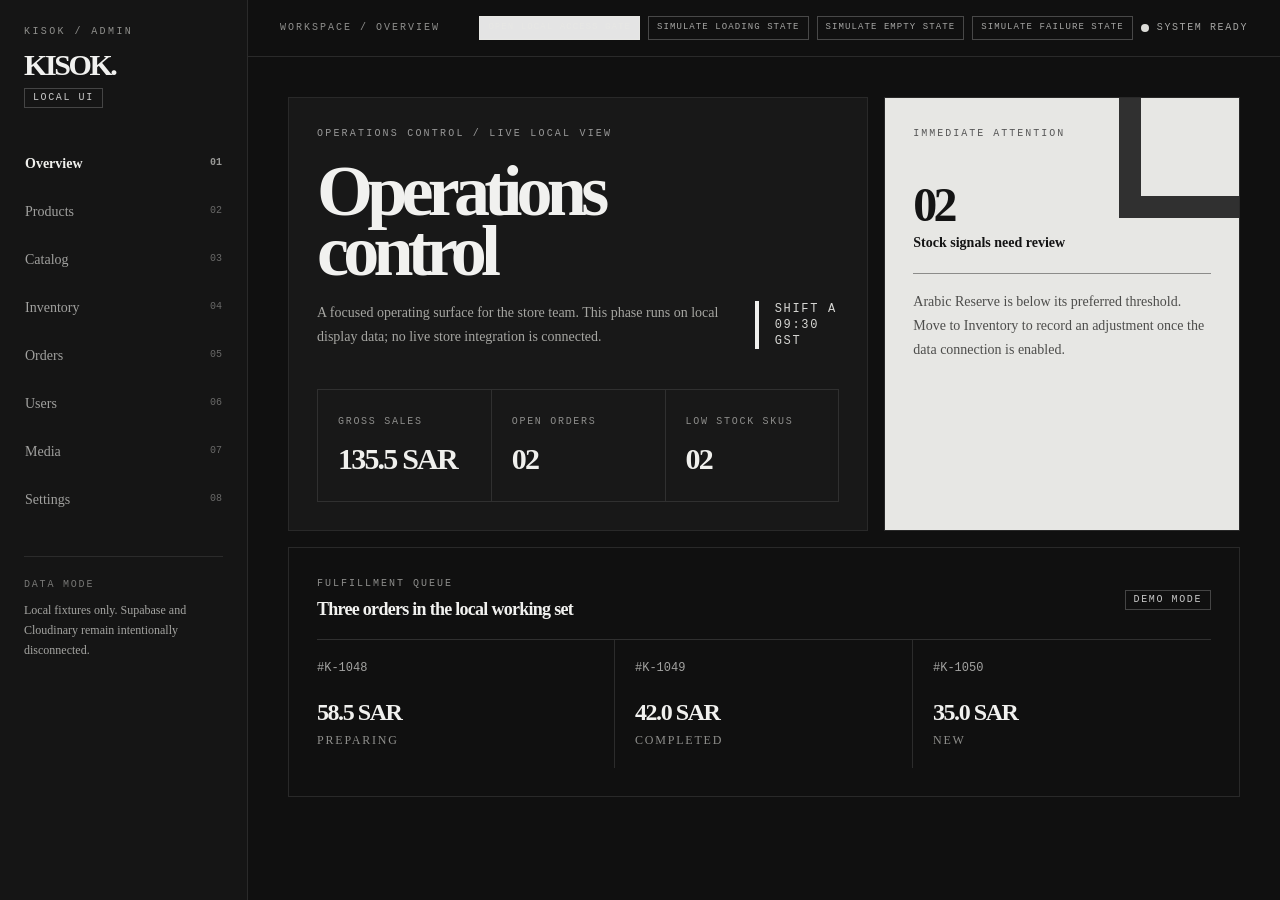
it: KisokAdminConsole › switches any feature into local loading, empty, and failure states
Click the button "Products 02" at (124, 212), box [24,188,223,236]
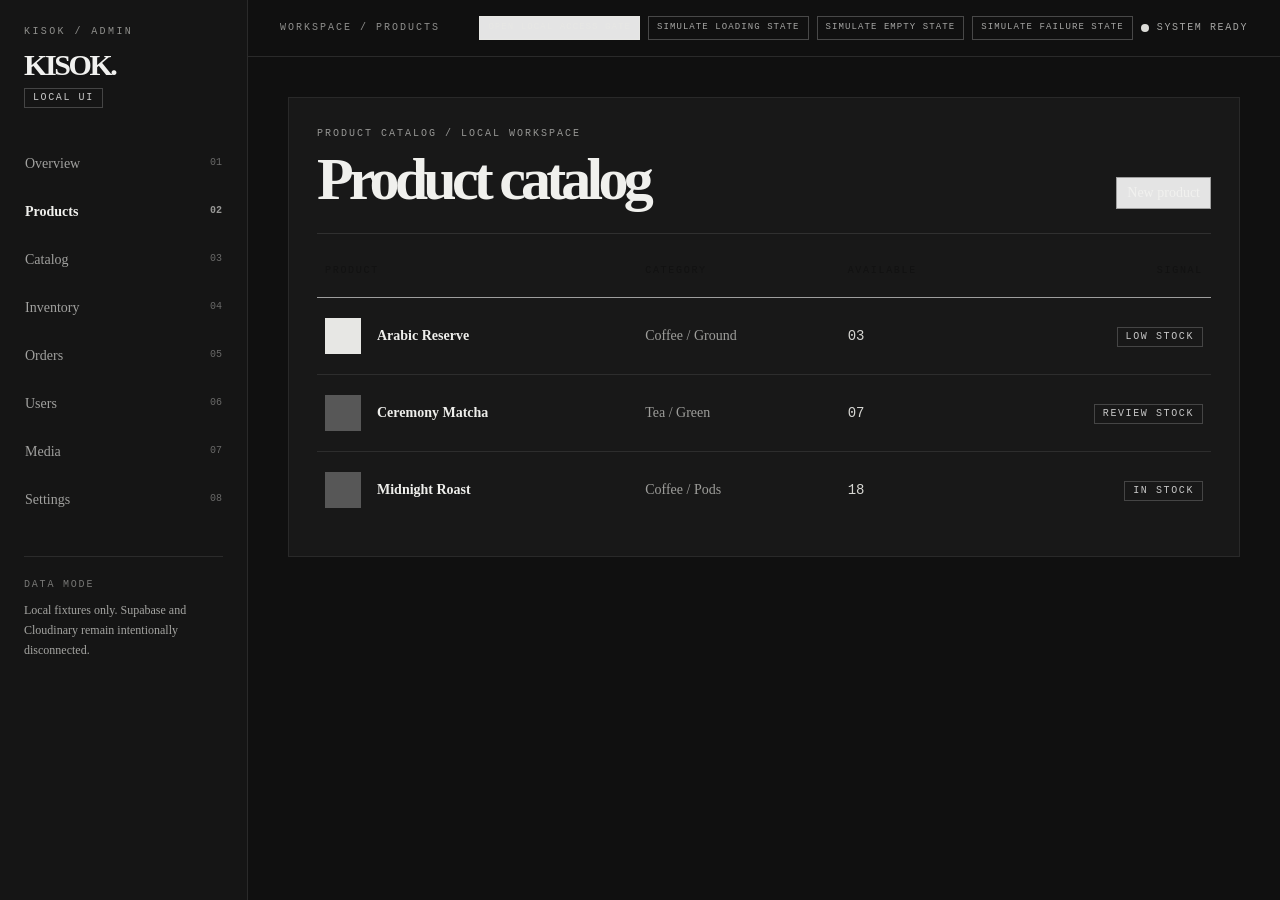
Click the button "Simulate empty state" at (890, 28), box [817,16,964,40]
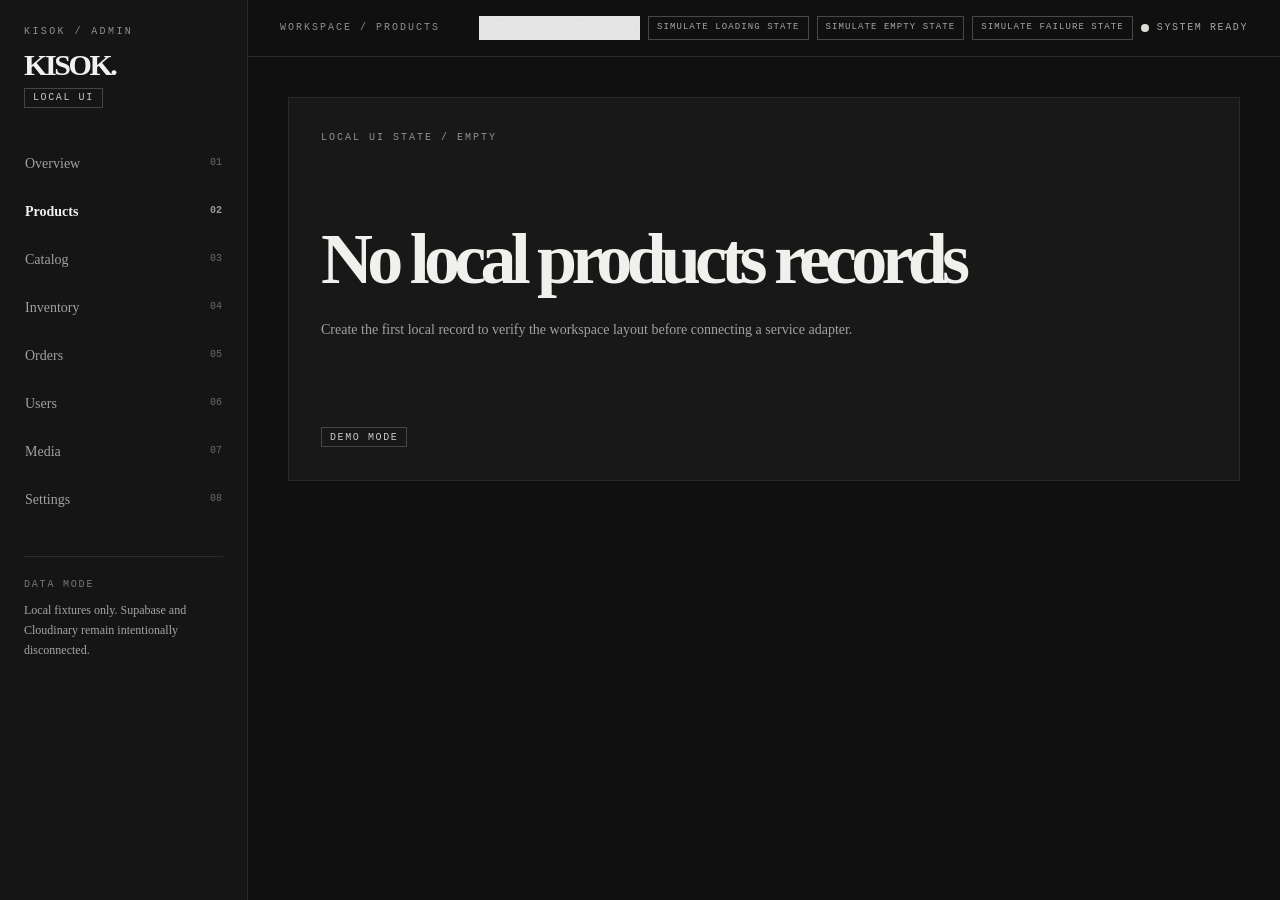
Expected: the heading "No local products records" is shown, [321,228,993,292]
Click the button "Simulate failure state" at (1052, 28), box [972,16,1133,40]
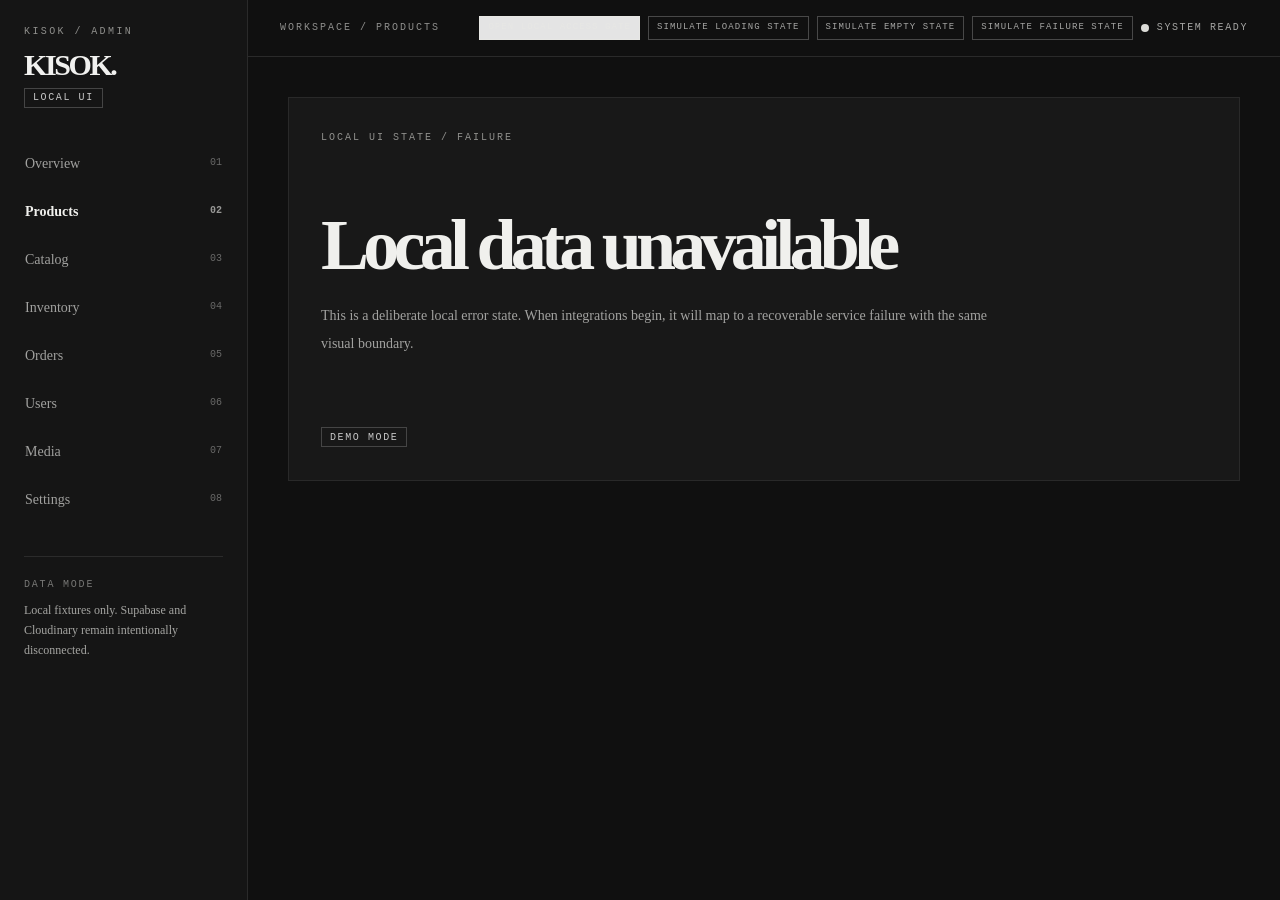
Expected: the heading "Local data unavailable" is shown, [321,214,993,278]
Click the button "Simulate loading state" at (728, 28), box [648,16,809,40]
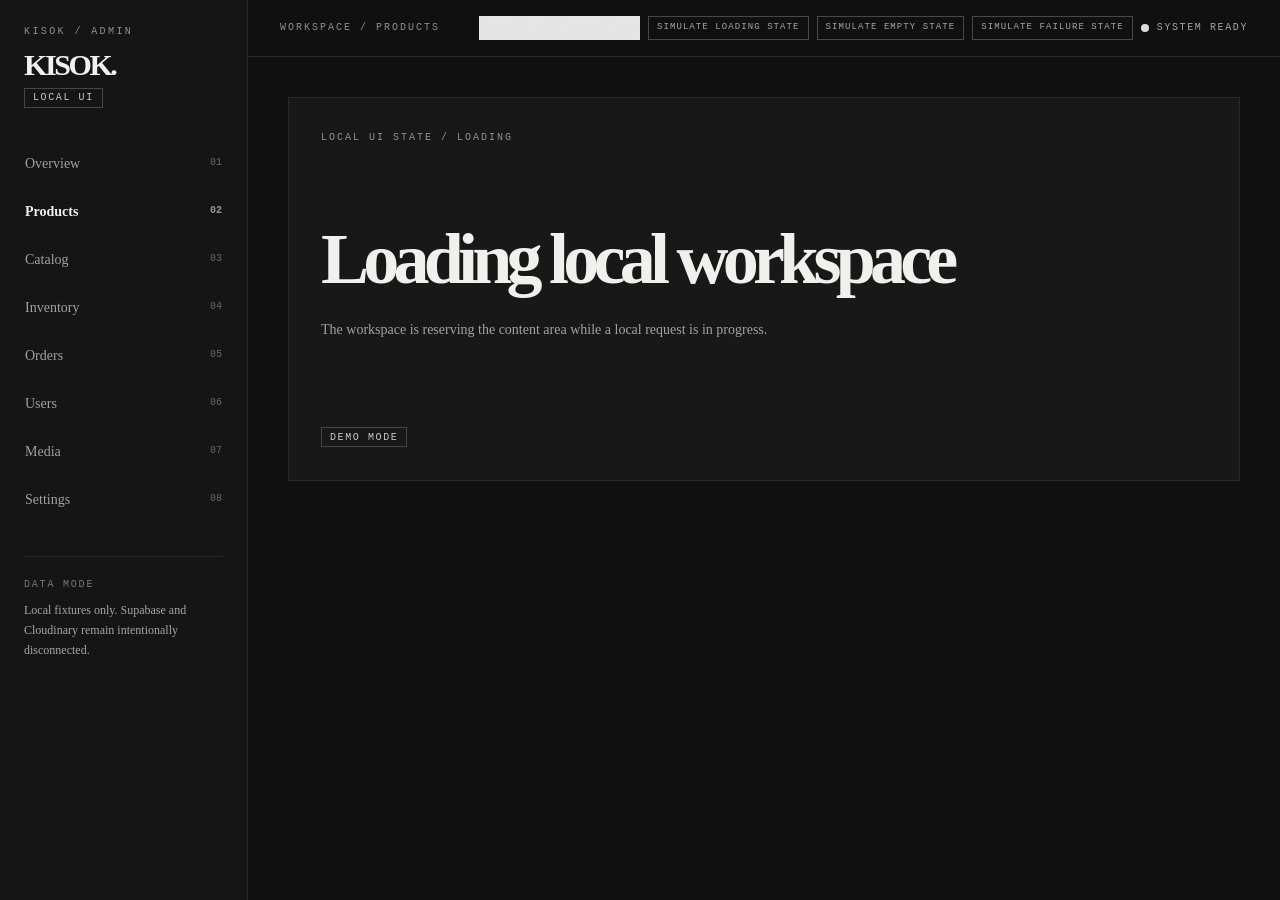
Expected: the heading "Loading local workspace" is shown, [321,228,993,292]
